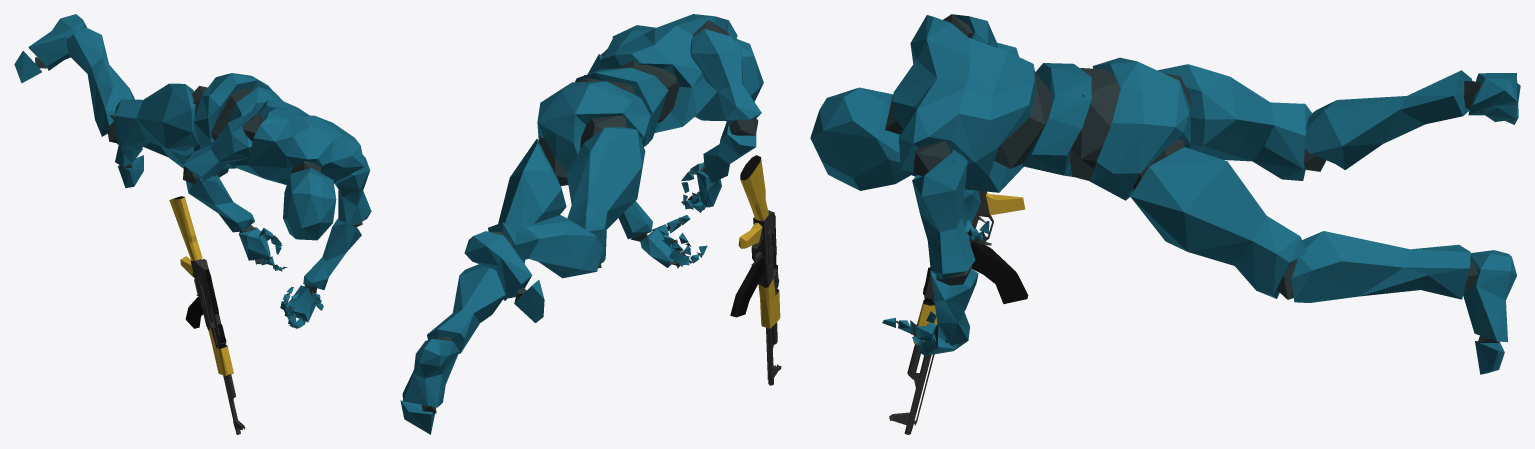
File: EnemyDying_000027.obj
3 renders of one model, left to right at view 1: azimuth 30°, elevation 25°; view 2: azimuth 150°, elevation 25°; view 3: azimuth 270°, elevation 25°, orthographic. The views are drawn at different scales.
Parts seen in each view (by area): view 1: Alpha_Surface, AK-47_Cube, Alpha_Joints; view 2: Alpha_Surface, AK-47_Cube, Alpha_Joints; view 3: Alpha_Surface, Alpha_Joints, AK-47_Cube.
Boxes of the visible parts, x1=… form: Alpha_Surface: x1=14, y1=14, x2=371, y2=328; AK-47_Cube: x1=169, y1=196, x2=245, y2=434; Alpha_Joints: x1=35, y1=25, x2=362, y2=328; Alpha_Surface: x1=400, y1=14, x2=763, y2=434; AK-47_Cube: x1=730, y1=155, x2=781, y2=385; Alpha_Joints: x1=421, y1=20, x2=758, y2=413; Alpha_Surface: x1=810, y1=14, x2=1520, y2=374; Alpha_Joints: x1=885, y1=14, x2=1513, y2=356; AK-47_Cube: x1=889, y1=191, x2=1028, y2=434.
Bounding box in the file's own units: 133 × 223 × 321.
